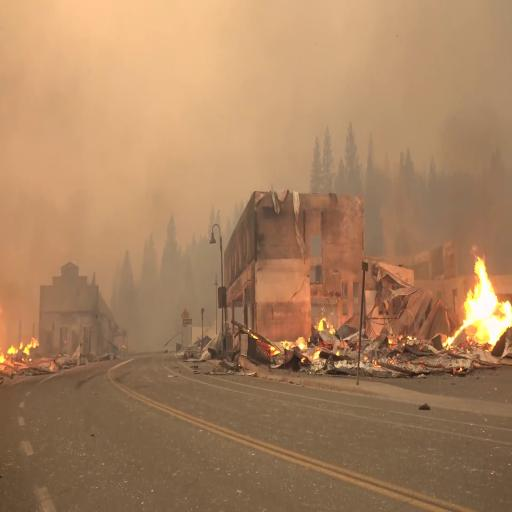fire: (459, 256, 512, 341)
